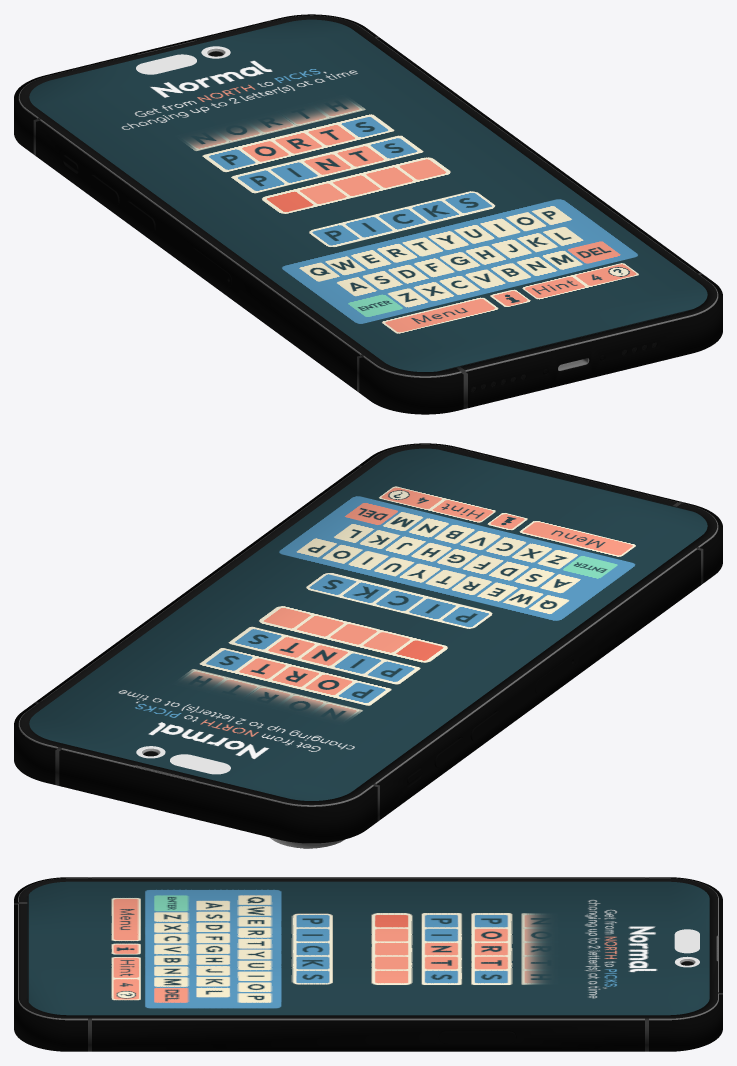
Rendered from word-lawrie-phone.glb.
The picture shows the model from 3 angles, top to bottom: view 1: azimuth 30°, elevation 25°; view 2: azimuth 150°, elevation 25°; view 3: azimuth 270°, elevation 25°; orthographic projection. The views are drawn at different scales.
Visible parts, largest first — view 1: Display, Phone, Island; view 2: Display, Phone, Island; view 3: Display, Phone, Button, Island.
Part boxes in pixels (left/top/right/bottom): Display: left=29, top=19, right=707, bottom=371; Phone: left=14, top=14, right=722, bottom=414; Island: left=136, top=46, right=230, bottom=74; Display: left=29, top=448, right=707, bottom=800; Phone: left=14, top=443, right=722, bottom=843; Island: left=136, top=746, right=230, bottom=774; Display: left=27, top=881, right=709, bottom=1015; Phone: left=14, top=877, right=722, bottom=1051; Button: left=438, top=1031, right=515, bottom=1043; Island: left=674, top=929, right=699, bottom=967.
Bounding box in the file's own units: 0.0783 × 0.0125 × 0.1607.
Materials: 18 (1 with a texture image).
